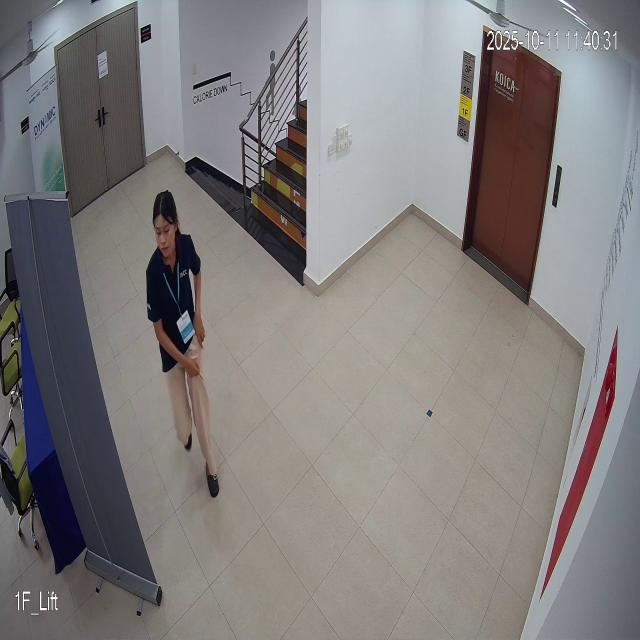face: (148, 175, 180, 262)
